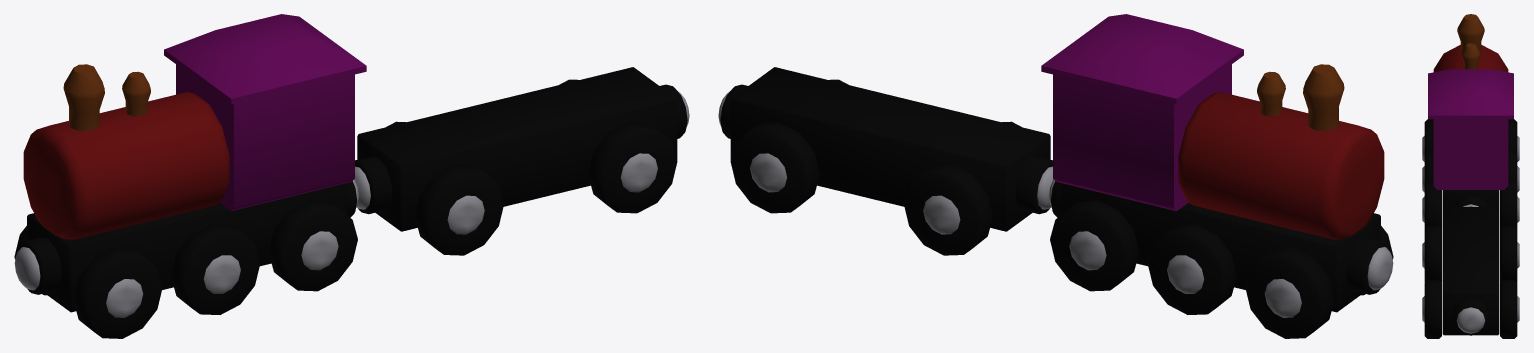
File: DivideTrain.fbx
3 renders of one model, left to right at view 1: azimuth 30°, elevation 25°; view 2: azimuth 150°, elevation 25°; view 3: azimuth 270°, elevation 25°, orthographic. The views are drawn at different scales.
Visible parts, largest first — view 1: Train_Head, Train_Body; view 2: Train_Head, Train_Body; view 3: Train_Head, Train_Body.
Part boxes in pixels (bbox=[...]): Train_Head: bbox=[14, 14, 366, 338]; Train_Body: bbox=[354, 67, 689, 255]; Train_Head: bbox=[1041, 14, 1393, 338]; Train_Body: bbox=[718, 67, 1053, 255]; Train_Head: bbox=[1422, 14, 1519, 228]; Train_Body: bbox=[1422, 206, 1519, 338].
Size of the model in its own units: 17.93 by 6.39 by 3.57.
